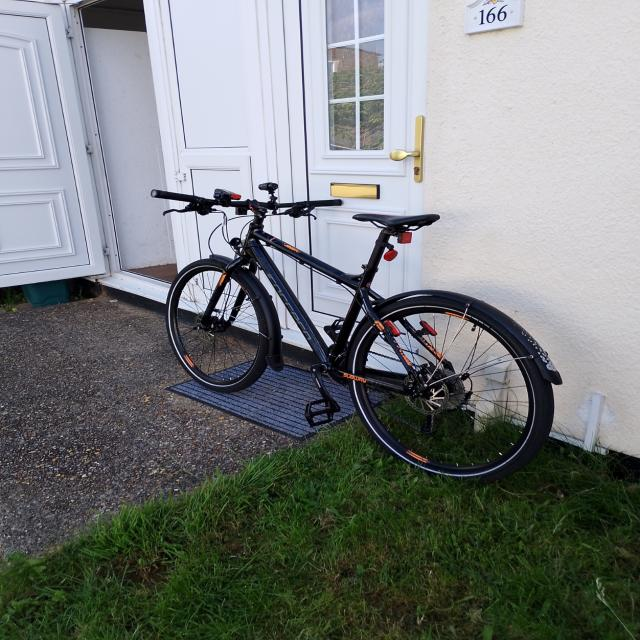bicycle: (150, 181, 562, 482)
